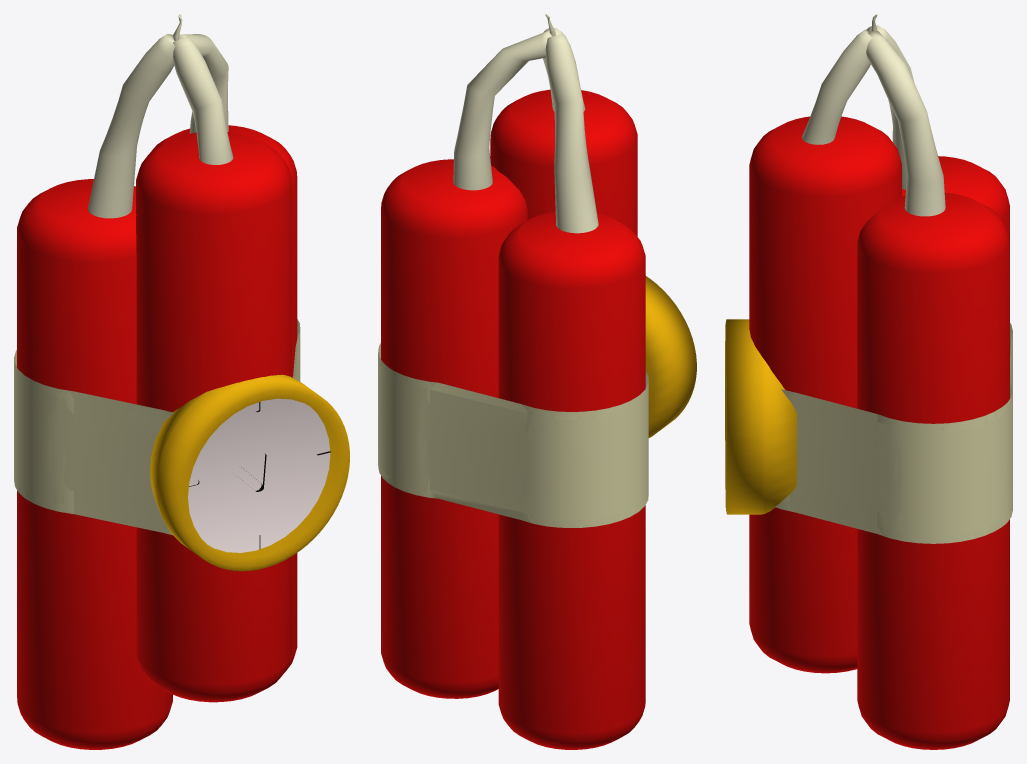
The model's file is Meep Bomb.fbx.
The picture shows the model from 3 angles, left to right: view 1: azimuth 30°, elevation 25°; view 2: azimuth 150°, elevation 25°; view 3: azimuth 270°, elevation 25°; orthographic projection. The views are drawn at different scales.
Visible parts, largest first — view 1: Cylinder.002, Cylinder, Cylinder.004; view 2: Cylinder.002, Cylinder.004, Cylinder; view 3: Cylinder.002, Cylinder, Cylinder.004.
Part boxes in pixels (<box>): Cylinder.002: <box>14,125,300,749</box>; Cylinder: <box>149,374,349,571</box>; Cylinder.004: <box>88,14,233,218</box>; Cylinder.002: <box>378,89,648,749</box>; Cylinder.004: <box>453,14,598,233</box>; Cylinder: <box>645,276,696,437</box>; Cylinder.002: <box>749,116,1012,749</box>; Cylinder: <box>725,319,796,514</box>; Cylinder.004: <box>802,14,945,216</box>.
Bounding box in the file's own units: 113 × 292 × 108.
